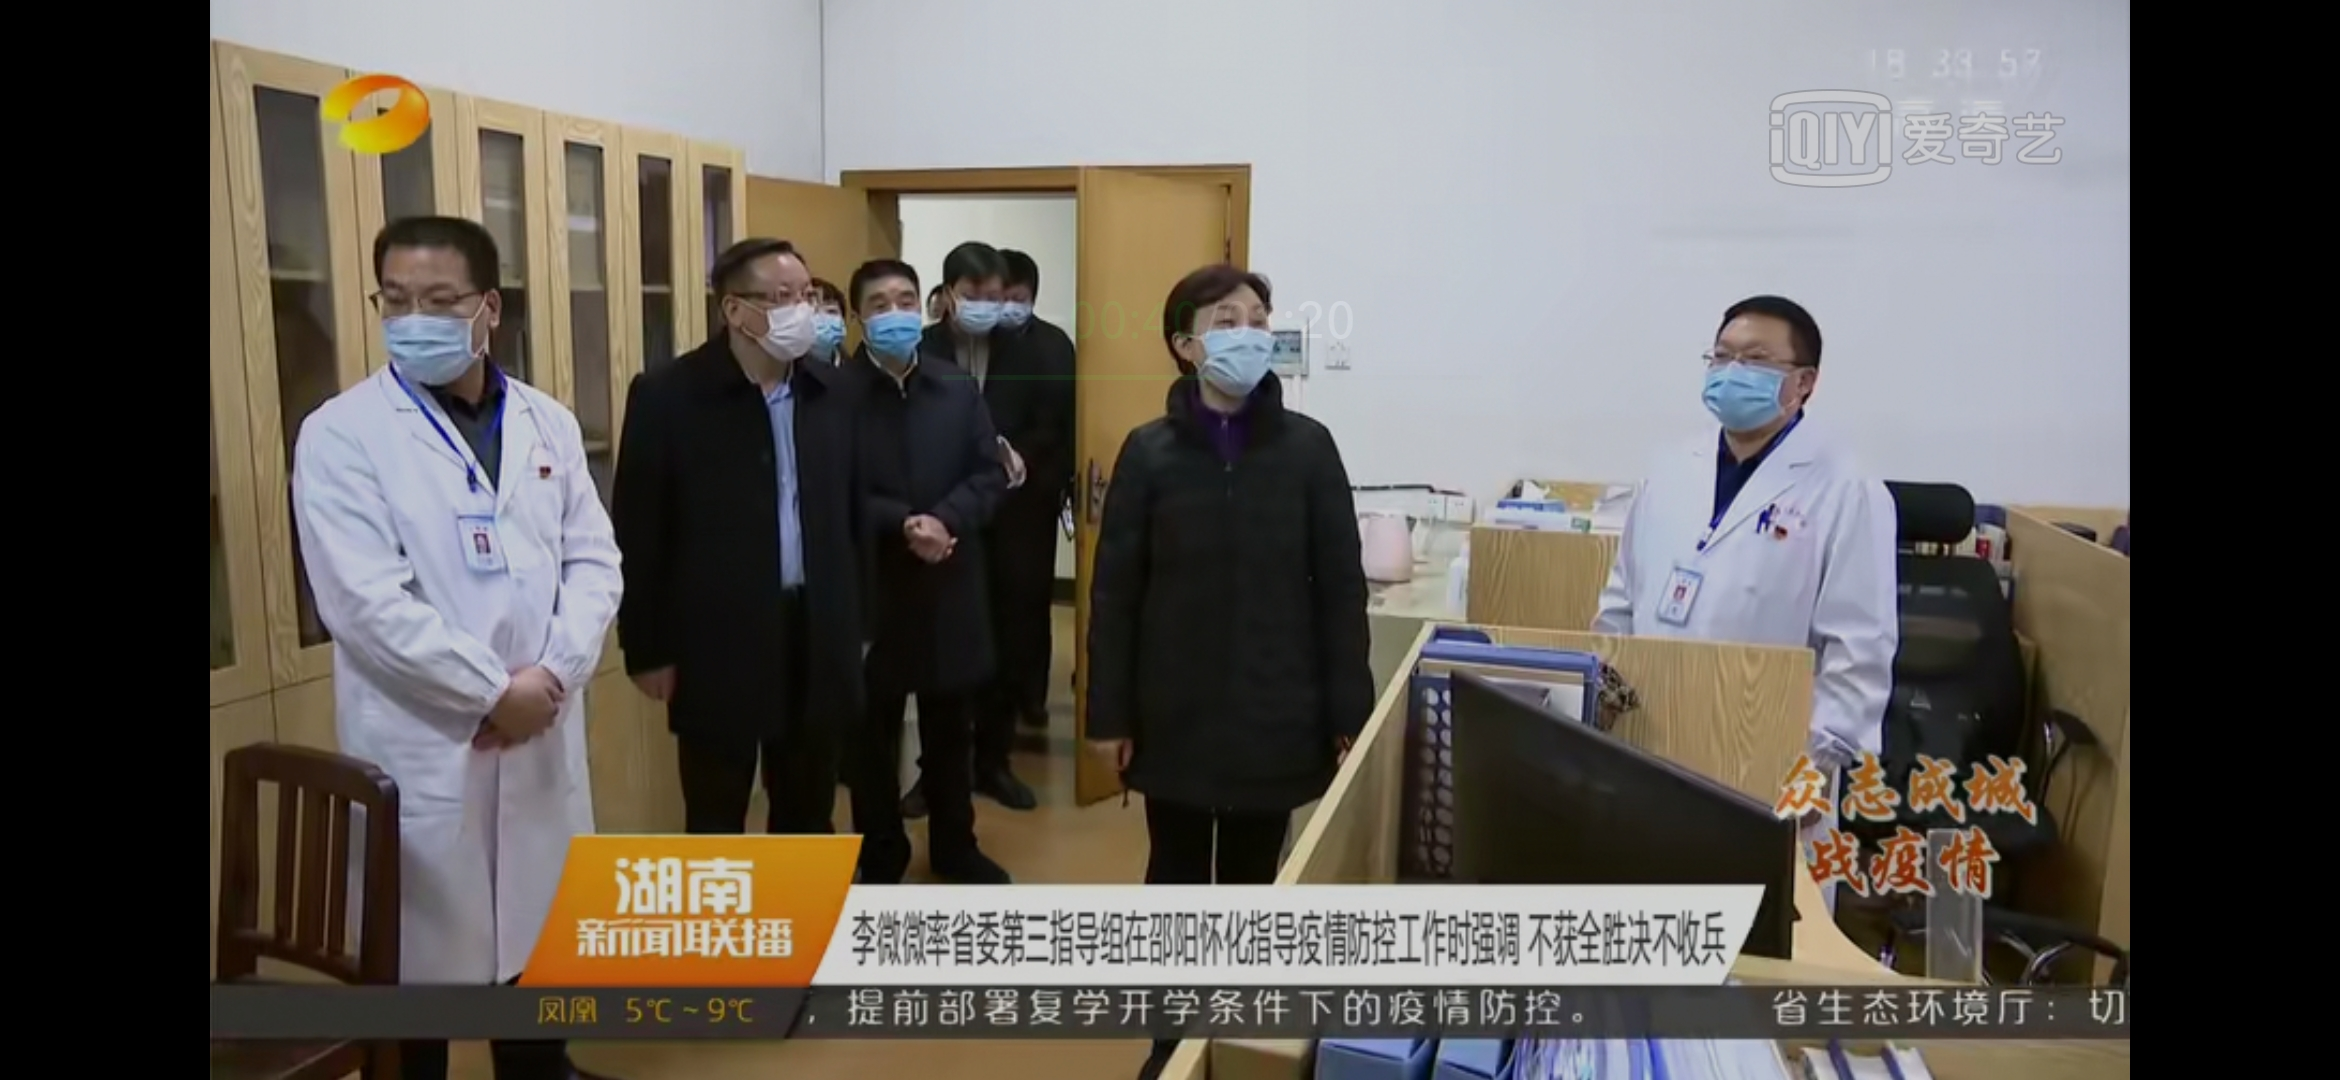correctlyWear: (369, 269, 504, 386), (1697, 333, 1816, 439), (1170, 300, 1276, 401), (721, 271, 813, 367), (855, 279, 927, 355), (955, 273, 1003, 333), (806, 297, 849, 354), (1003, 279, 1036, 330)
